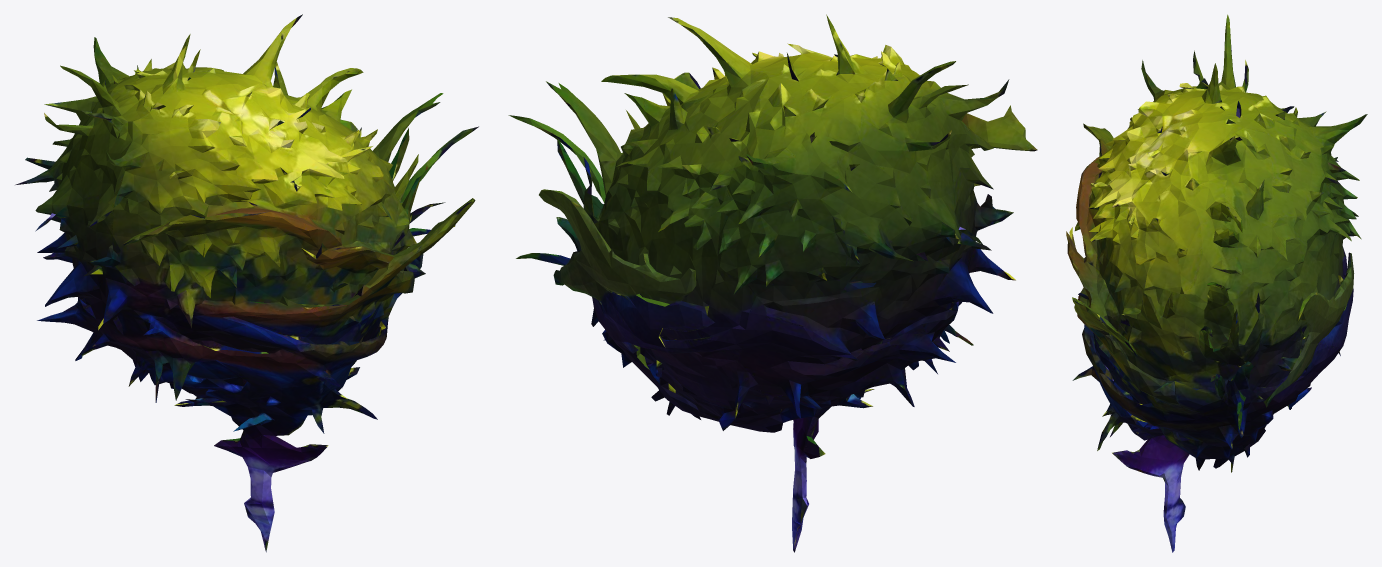
File: thorn_bush.glb
3 renders of one model, left to right at view 1: azimuth 30°, elevation 25°; view 2: azimuth 150°, elevation 25°; view 3: azimuth 270°, elevation 25°, orthographic. The views are drawn at different scales.
Parts seen in each view (by area): view 1: tmp6koxzi7t.ply; view 2: tmp6koxzi7t.ply; view 3: tmp6koxzi7t.ply.
Boxes of the visible parts, x1,y1,x2,y2 form: tmp6koxzi7t.ply: (15,14,478,552); tmp6koxzi7t.ply: (508,14,1037,552); tmp6koxzi7t.ply: (1066,14,1367,552).
Size of the model in its own units: 1.76 by 1.99 by 1.16.
Materials: 1 (1 with a texture image).
